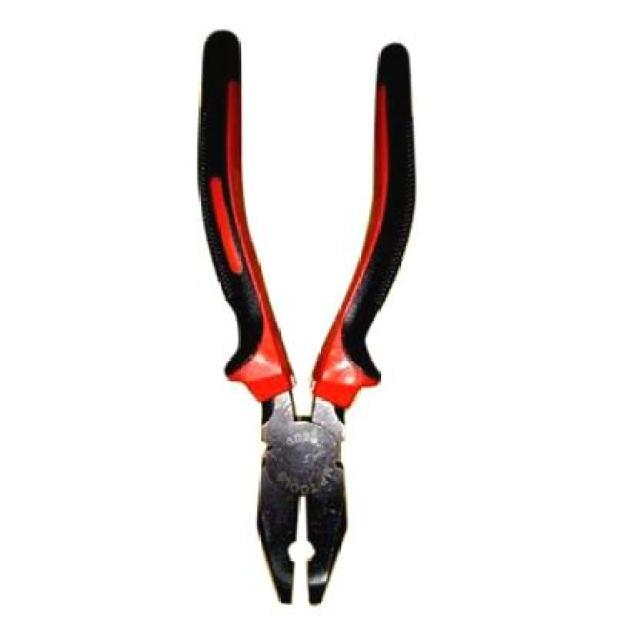pliers: (197, 31, 420, 607)
